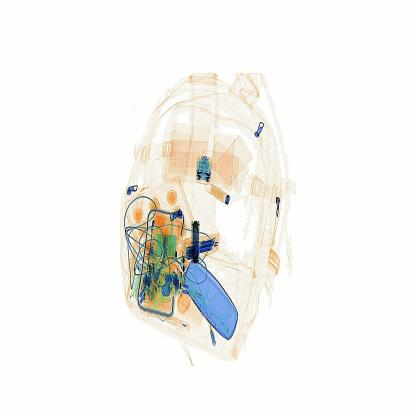scissors: (191, 217, 202, 263)
